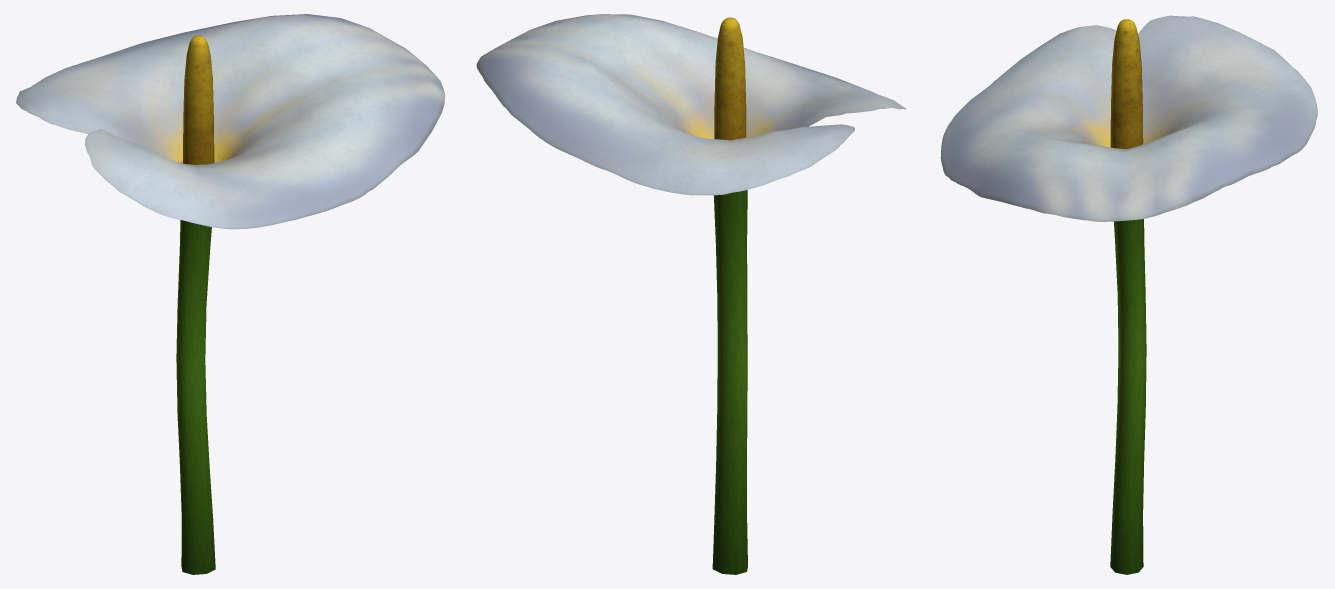
Rendered from lirio de agua.fbx.
The picture shows the model from 3 angles, left to right: view 1: azimuth 30°, elevation 25°; view 2: azimuth 150°, elevation 25°; view 3: azimuth 270°, elevation 25°; orthographic projection. The views are drawn at different scales.
Parts seen in each view (by area): view 1: lirio_de_agua; view 2: lirio_de_agua; view 3: lirio_de_agua.
Boxes of the visible parts, box(x1,y1,x2,y2) form: lirio_de_agua: box(16, 14, 445, 574); lirio_de_agua: box(476, 14, 906, 574); lirio_de_agua: box(940, 15, 1317, 574).
Bounding box in the file's own units: 4.57 × 6.26 × 3.98.
Materials: 1 (1 with a texture image).
